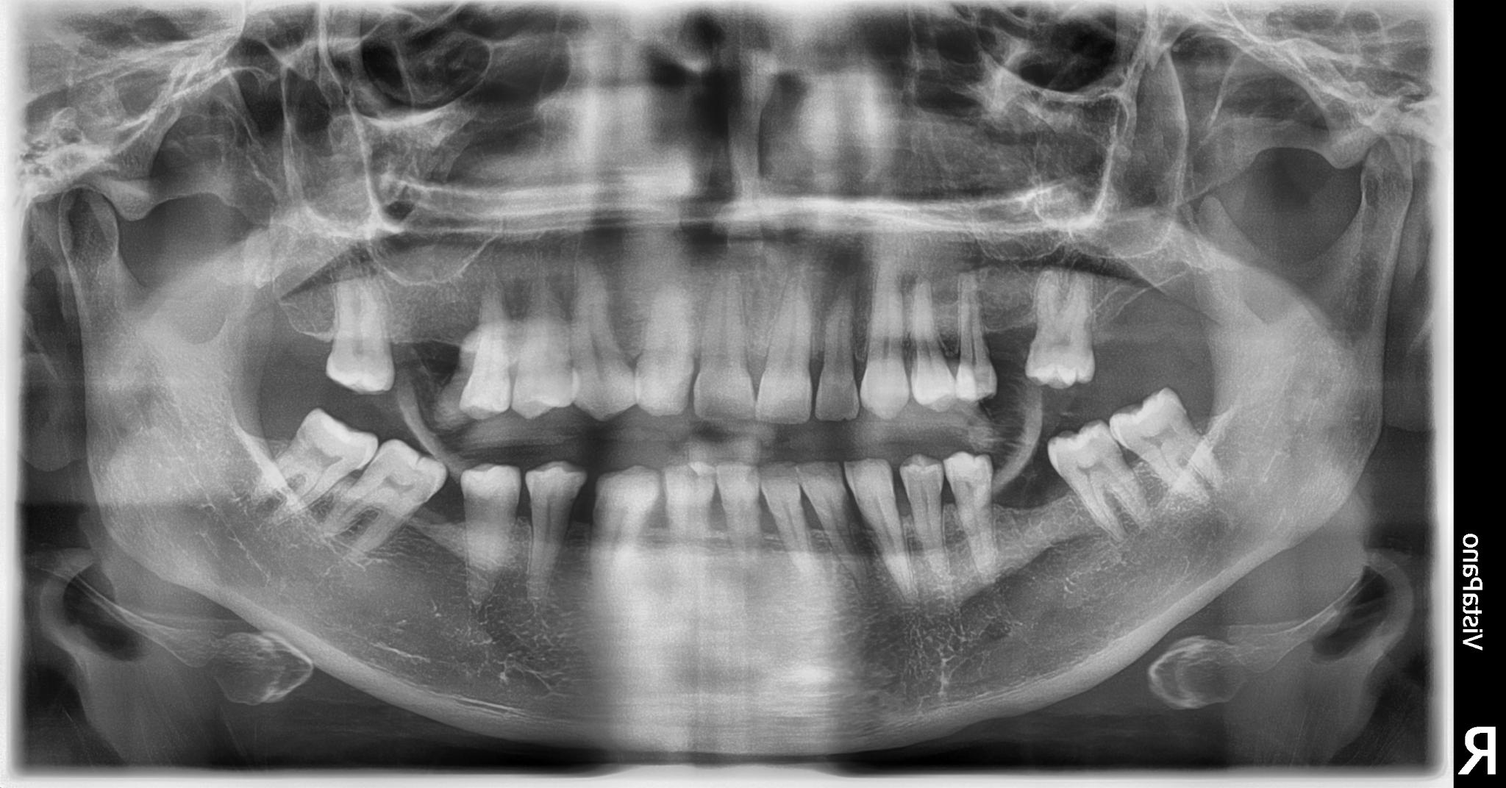Premolars: (470, 332, 1364, 787), (589, 272, 1506, 689), (546, 226, 1506, 509), (139, 328, 587, 788)
